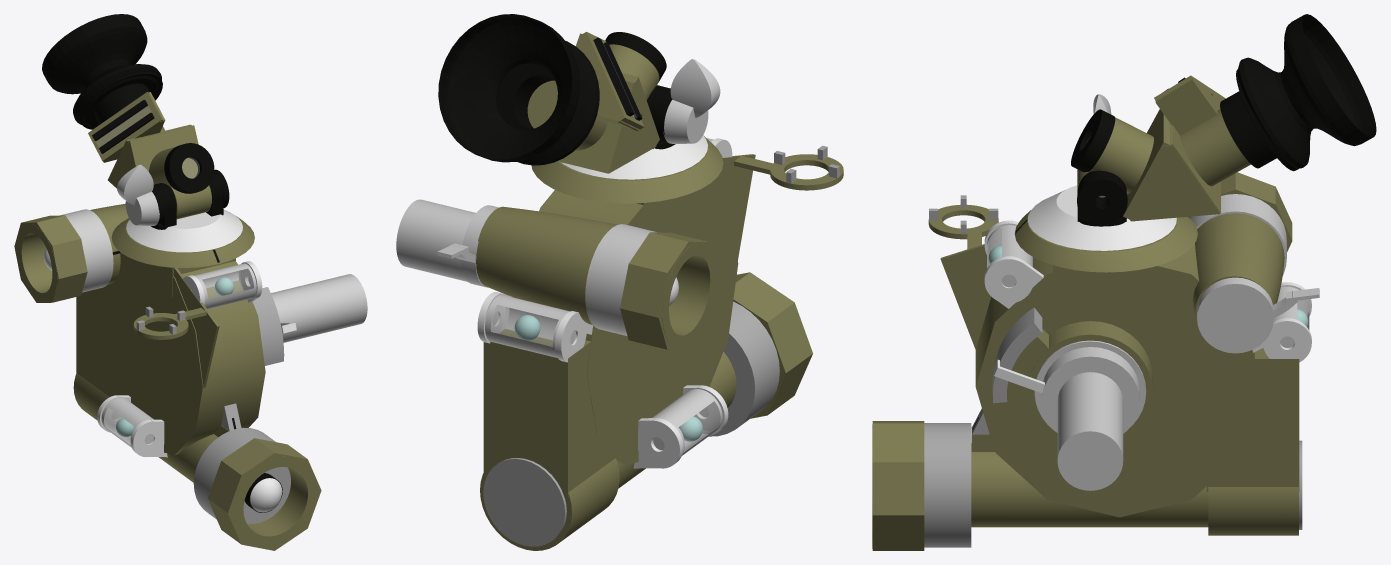
Rendered from прицел точно финал.fbx.
The picture shows the model from 3 angles, left to right: view 1: azimuth 30°, elevation 25°; view 2: azimuth 150°, elevation 25°; view 3: azimuth 270°, elevation 25°; orthographic projection. The views are drawn at different scales.
Visible parts, largest first — view 1: Объект_Цилиндр_3_2, Объект_Труба_1_2, Объект_Цилиндр_2, Объект_Труба_10, Объект_Труба_9, Объект_Цилиндр_9, Объект_Цилиндр_7, Объект_Труба_16, Объект_Цилиндр_3_3, Объект_Цилиндр_13, Объект_Труба_17, Объект_Куб_5_2 (+27 smaller); view 2: Объект_Цилиндр_3_2, Объект_Труба_1_2, Объект_Куб_12, Объект_Цилиндр_6, Объект_Цилиндр_2_3, Объект_Труба_16, Объект_Цилиндр_3_3, Объект_Труба_9, Объект_Цилиндр_7, Объект_Цилиндр_2, Объект_Цилиндр_13, Объект_Труба_17 (+26 smaller); view 3: Объект_Цилиндр_3_2, Объект_Куб_12, Объект_Труба_1_2, Объект_Цилиндр_1_6, Объект_Цилиндр_2, Объект_Труба_9, Объект_Цилиндр_7, Объект_Цилиндр_6, Объект_Куб_5_2, Объект_Цилиндр_1_2, Объект_Цилиндр_9, Объект_Цилиндр_3_3 (+20 smaller).
Boxes of the visible parts, bbox=[...] form: Объект_Цилиндр_3_2: bbox=[90, 253, 265, 455]; Объект_Труба_1_2: bbox=[42, 14, 161, 127]; Объект_Цилиндр_2: bbox=[271, 274, 367, 342]; Объект_Труба_10: bbox=[233, 456, 317, 546]; Объект_Труба_9: bbox=[207, 438, 321, 550]; Объект_Цилиндр_9: bbox=[126, 209, 242, 252]; Объект_Цилиндр_7: bbox=[193, 427, 290, 523]; Объект_Труба_16: bbox=[14, 215, 87, 302]; Объект_Цилиндр_3_3: bbox=[111, 212, 254, 267]; Объект_Цилиндр_13: bbox=[59, 209, 113, 292]; Объект_Труба_17: bbox=[17, 224, 57, 302]; Объект_Куб_5_2: bbox=[108, 124, 198, 188]; Объект_Цилиндр_3_2: bbox=[539, 183, 738, 465]; Объект_Труба_1_2: bbox=[438, 14, 599, 165]; Объект_Куб_12: bbox=[483, 329, 616, 498]; Объект_Цилиндр_6: bbox=[476, 206, 617, 324]; Объект_Цилиндр_2_3: bbox=[483, 458, 566, 546]; Объект_Труба_16: bbox=[620, 232, 718, 349]; Объект_Цилиндр_3_3: bbox=[531, 135, 723, 203]; Объект_Труба_9: bbox=[733, 272, 812, 418]; Объект_Цилиндр_7: bbox=[709, 301, 779, 436]; Объект_Цилиндр_2: bbox=[396, 199, 475, 281]; Объект_Цилиндр_13: bbox=[585, 224, 656, 335]; Объект_Труба_17: bbox=[662, 243, 716, 347]; Объект_Цилиндр_3_2: bbox=[975, 243, 1254, 517]; Объект_Куб_12: bbox=[1206, 348, 1299, 491]; Объект_Труба_1_2: bbox=[1237, 14, 1376, 168]; Объект_Цилиндр_1_6: bbox=[971, 443, 1208, 527]; Объект_Цилиндр_2: bbox=[1057, 372, 1123, 490]; Объект_Труба_9: bbox=[872, 421, 924, 550]; Объект_Цилиндр_7: bbox=[924, 423, 971, 547]; Объект_Цилиндр_6: bbox=[1192, 213, 1284, 320]; Объект_Куб_5_2: bbox=[1123, 109, 1220, 221]; Объект_Цилиндр_1_2: bbox=[1197, 277, 1273, 353]; Объект_Цилиндр_9: bbox=[1027, 185, 1176, 250]; Объект_Цилиндр_3_3: bbox=[1014, 210, 1197, 272].
Bounding box in the file's own units: 112 × 165 × 143.
